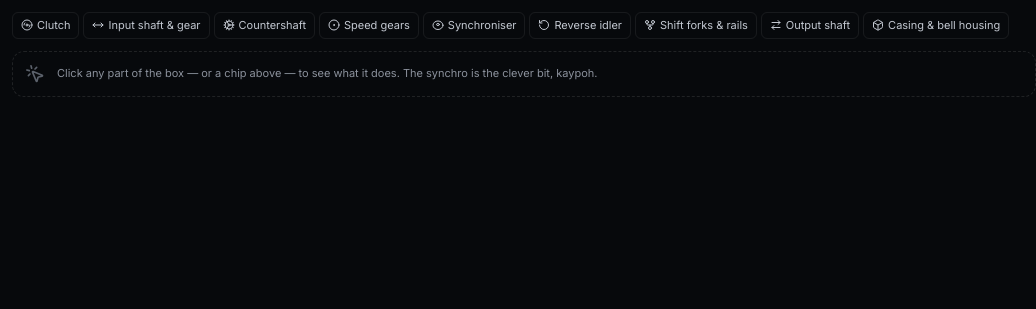
Test: GearboxPartInspector › shows an explainer card for a chip and clears it again
Expected: the text "Click any part" is shown, [57, 66, 597, 80]
Click the button "Synchroniser" at (474, 25), box [423, 12, 525, 38]
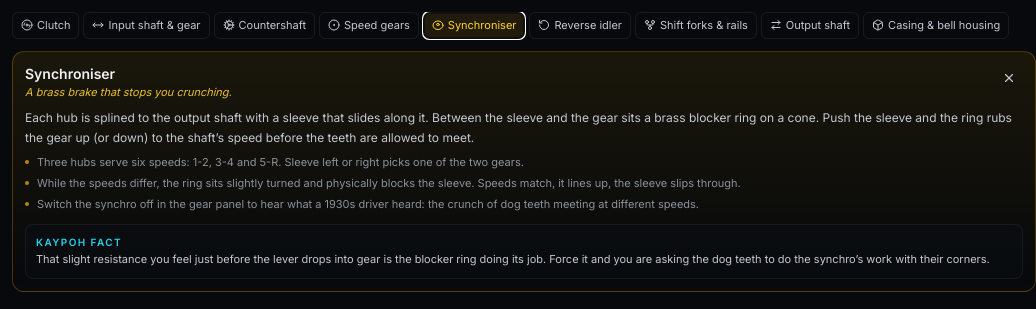
Now the text "A brass brake that stops you crunching." is shown, box [25, 84, 232, 100]
Now the text "That slight resistance you feel just before the lever drops into gear is the blocker ring doing its job. Force it and yo" is shown, box [36, 252, 990, 266]
Click the button named "clear selection" at (1009, 78), box [995, 64, 1023, 92]
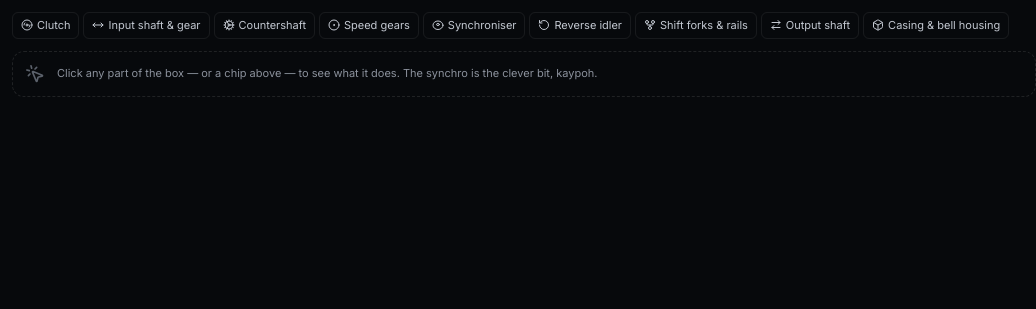
Now the text "Click any part" is shown, box [57, 66, 597, 80]
